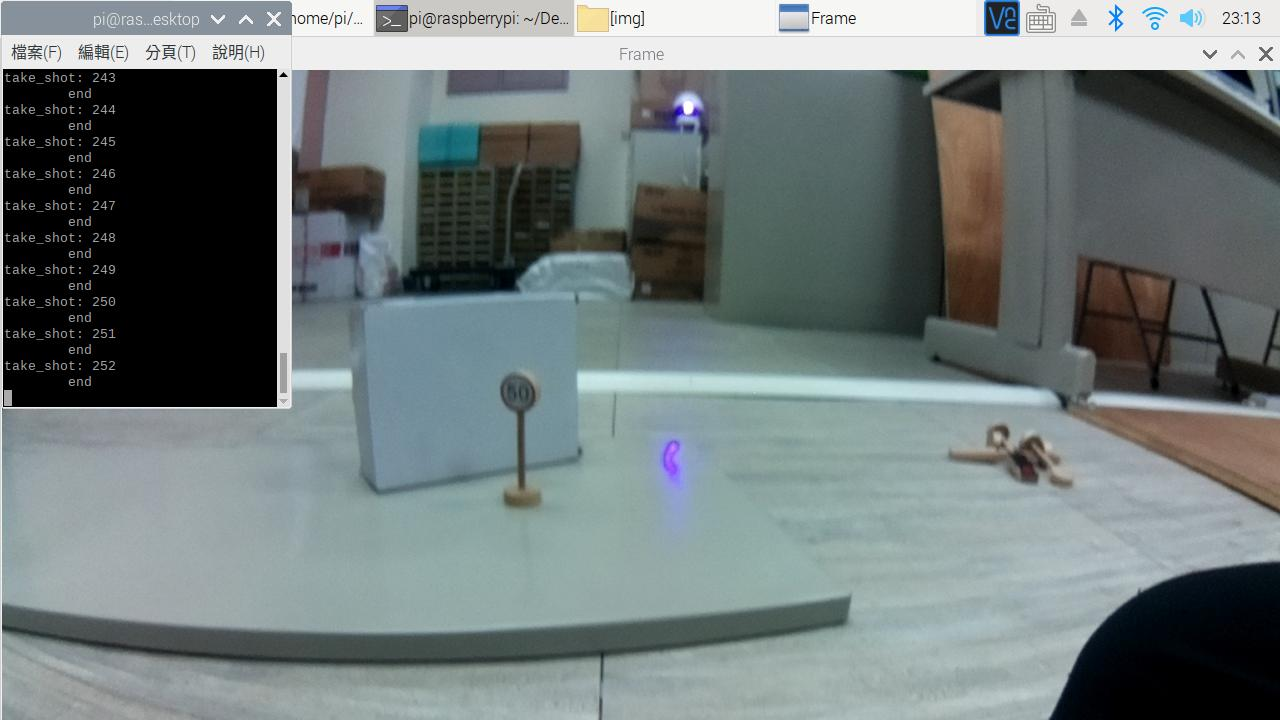Speed50: (498, 362, 551, 430)
